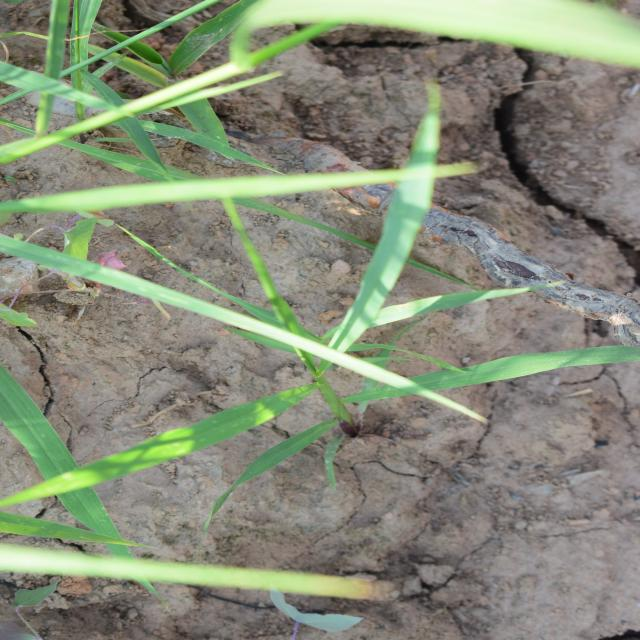green_foxtail: (157, 92, 479, 528)
